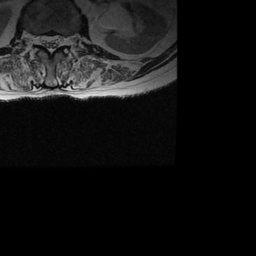CCS_normal: (47, 25, 54, 59)
LFS_normal: (62, 26, 70, 52)
LLS_normal: (54, 26, 62, 53)
RFS_normal: (32, 25, 40, 52)
RLS_normal: (39, 26, 47, 54)
